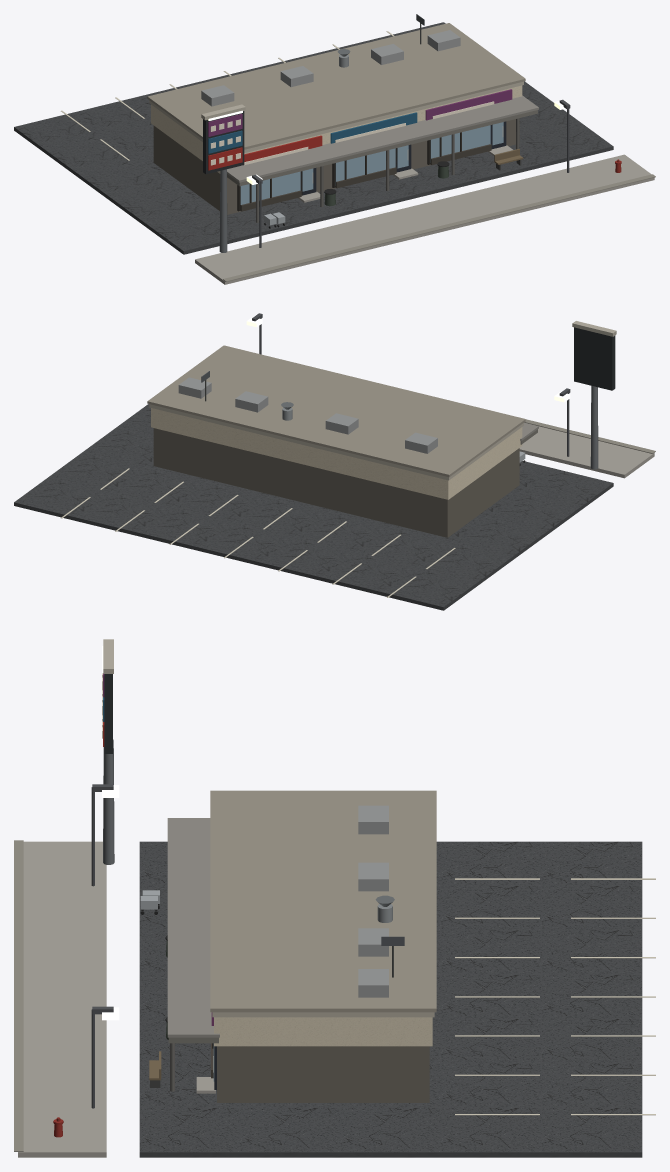
Rendered from jersey_stripmall.glb.
3 views of the same model, one above another, from view 1: azimuth 30°, elevation 25°; view 2: azimuth 150°, elevation 25°; view 3: azimuth 270°, elevation 25° (orthographic). The views are drawn at different scales.
Bounding box in the file's own units: 38 × 12.22 × 33.2.
5 materials, 5 textured.
